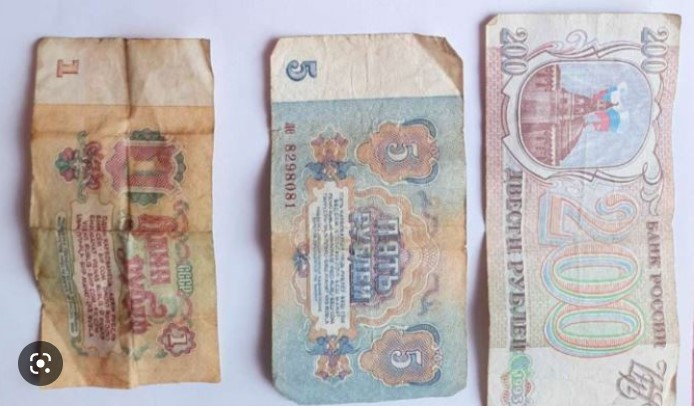cash: (484, 11, 682, 408), (269, 34, 469, 404), (30, 36, 220, 390)
